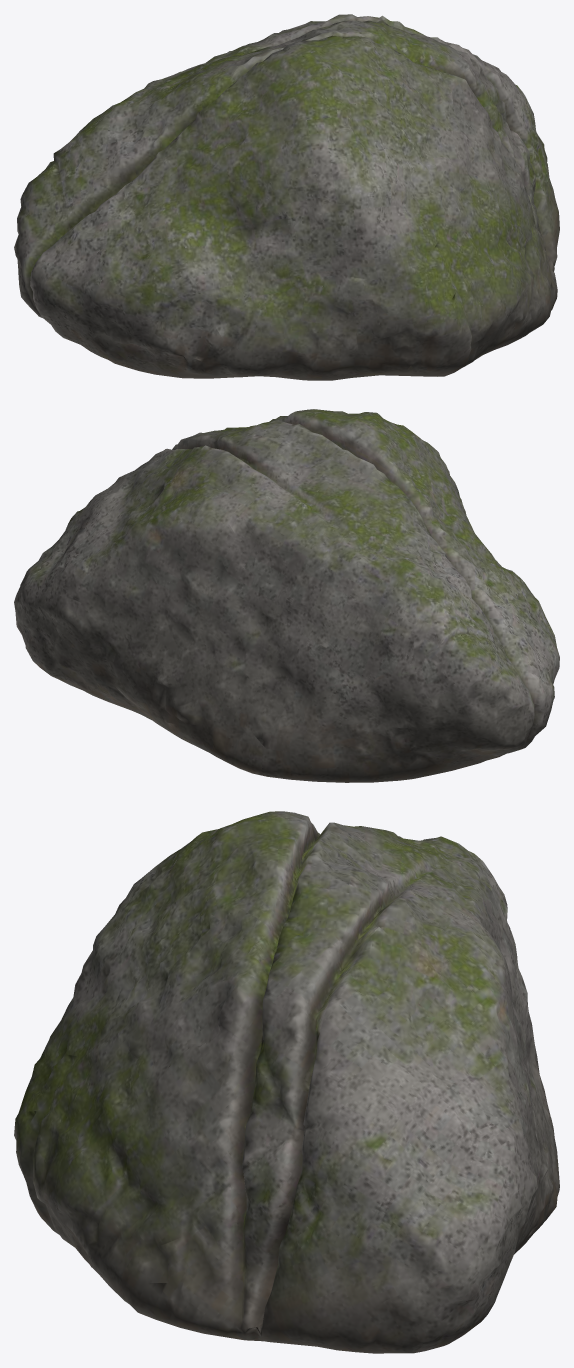
Rendered from kamen_zula_1.glb.
The picture shows the model from 3 angles, top to bottom: view 1: azimuth 30°, elevation 25°; view 2: azimuth 150°, elevation 25°; view 3: azimuth 270°, elevation 25°; orthographic projection. The views are drawn at different scales.
Parts seen in each view (by area): view 1: kamen_zula_1; view 2: kamen_zula_1; view 3: kamen_zula_1.
Part boxes in pixels (<box>): kamen_zula_1: <box>14,14,559,380</box>; kamen_zula_1: <box>14,409,559,782</box>; kamen_zula_1: <box>14,811,559,1353</box>.
Bounding box in the file's own units: 1.36 × 0.7645 × 0.9406.
Materials: 1 (1 with a texture image).
